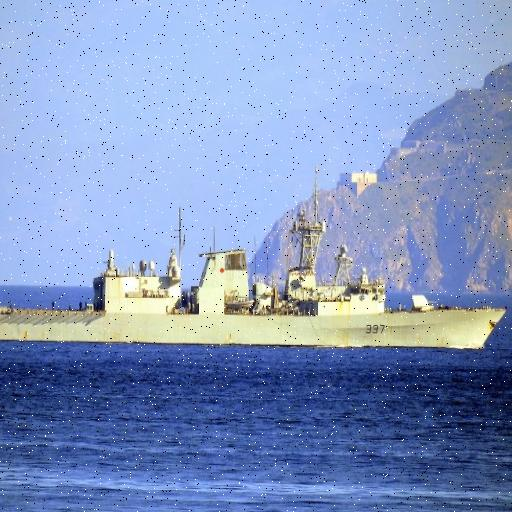Fragata: (1, 160, 510, 356)
